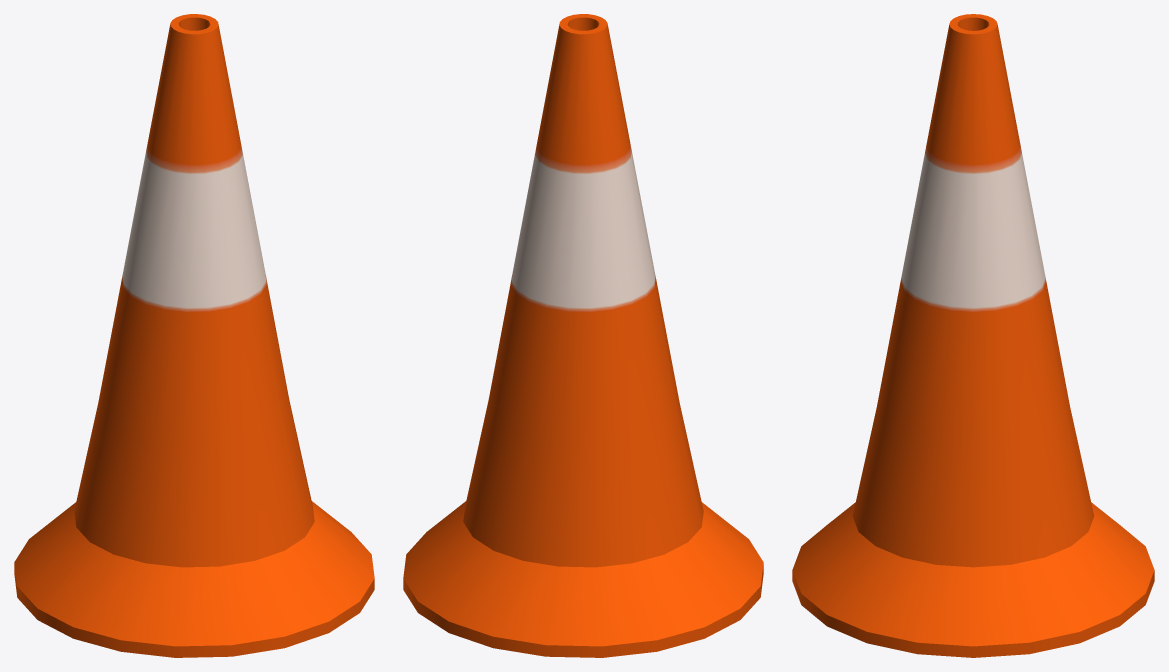
3 renders of one model, left to right at view 1: azimuth 30°, elevation 25°; view 2: azimuth 150°, elevation 25°; view 3: azimuth 270°, elevation 25°, orthographic.
Parts seen in each view (by area): view 1: obj_cone; view 2: obj_cone; view 3: obj_cone.
Part boxes in pixels (bbox=[...]): obj_cone: bbox=[14, 14, 374, 657]; obj_cone: bbox=[403, 14, 763, 657]; obj_cone: bbox=[792, 14, 1154, 657].
Bounding box in the file's own units: 0.4374 × 0.7427 × 0.4374.
1 material, 1 textured.
